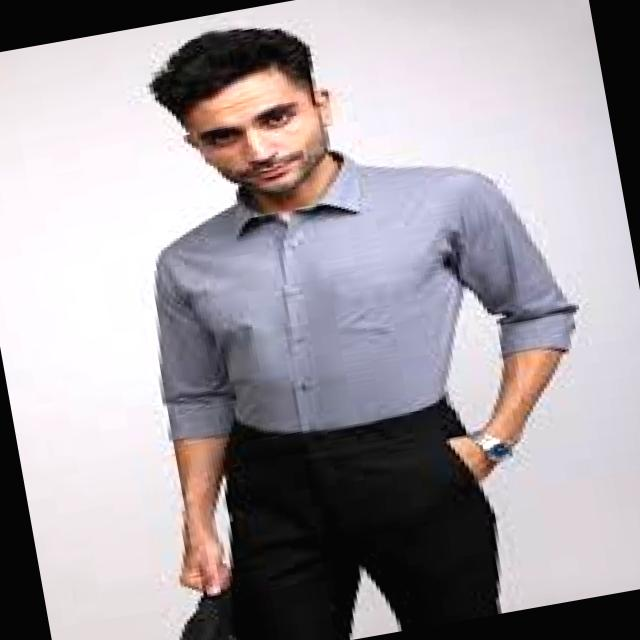face: (185, 68, 331, 197)
lower-wear: (224, 397, 501, 639)
top-wear: (155, 150, 579, 439)
